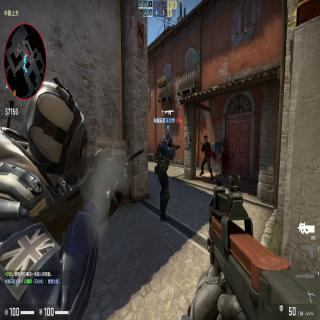CT-Body: (156, 133, 180, 220)
CT-Head: (167, 134, 173, 148)
T-Body: (200, 134, 214, 180)
T-Head: (204, 134, 208, 142)
